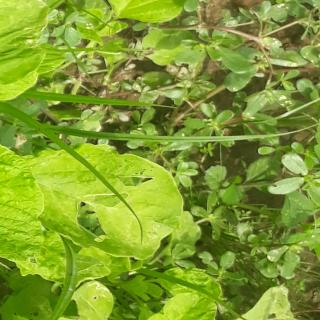karat_putih: (0, 8, 15, 73)
virus_keriting: (0, 243, 77, 285), (172, 264, 220, 294)
